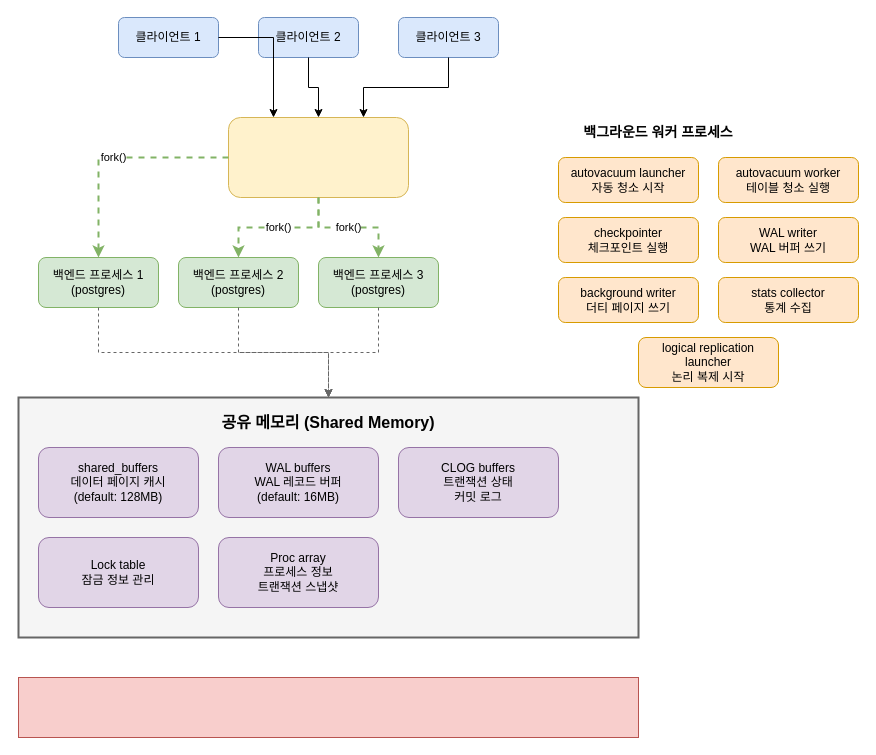
The diagram is 876 pixels wide and 755 high, and some of its shapes have lost their labels. The shapes that lost their labels are listed below. From the top down, each one's box as (x1, y1, x2, y2) in pixels, then its label:
(228, 116, 408, 198): postmaster (메인 프로세스) PostgreSQL 서버 시작 연결 수락 및 관리
(18, 676, 638, 738): OS 커널 (Linux/Windows) IPC: Semaphores, Signals, Shared Memory
